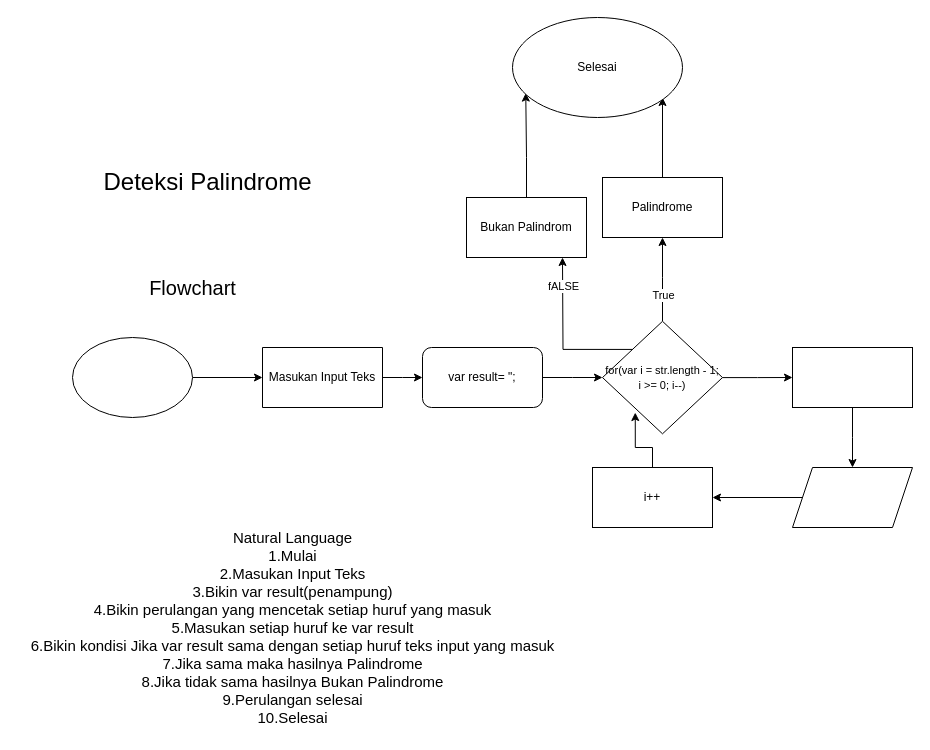
Some shapes in this 930 by 750 pixel diagram are drawn without their labels. Each missing label, with the centre of its shape:
if(result === teks): the point at 852,497
Mulai: the point at 132,377
result += str[i];: the point at 852,377
